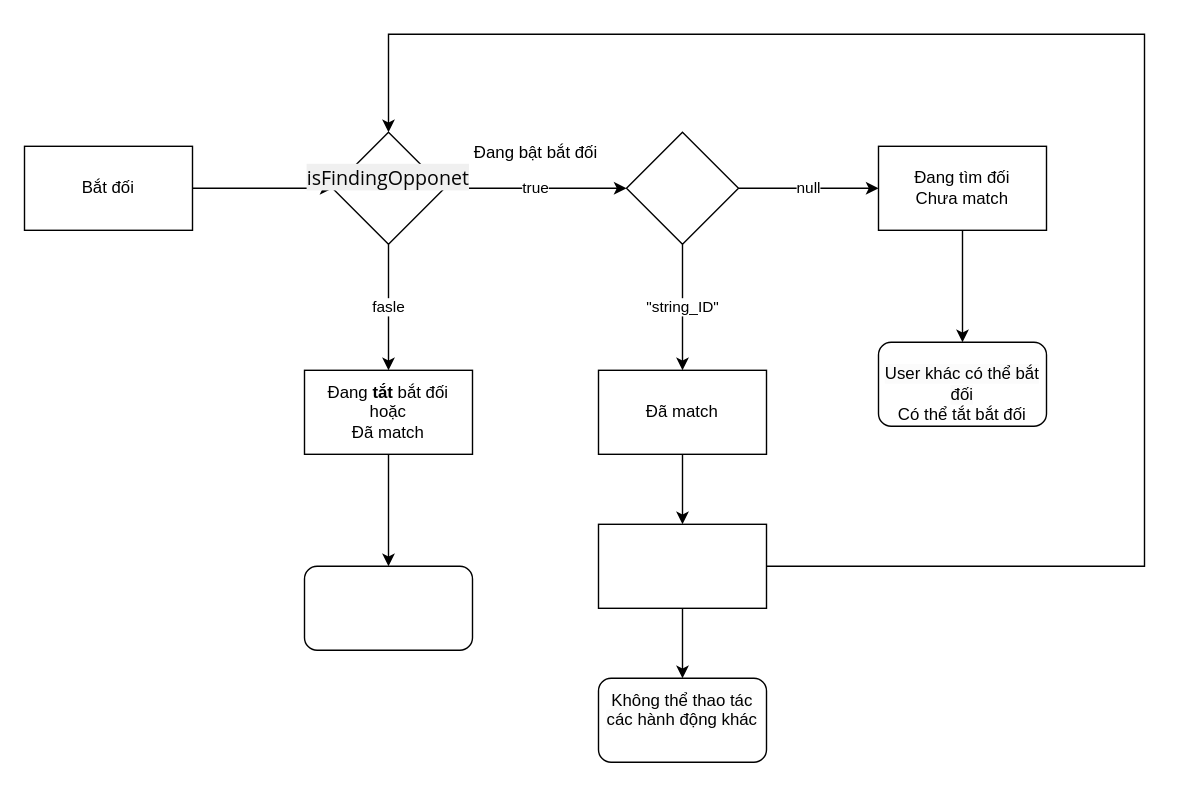
This 1180x795 diagram has some shape labels left out. The box of each missing label's shape, as (x1, y1, x2, y2) in pixels:
Chuyển isFindingOpponet = falsle: (597, 523, 766, 608)
Không thể tìm thấy đối này Không thể bắt đối: (303, 565, 472, 650)
OpponentId: (625, 131, 738, 244)
